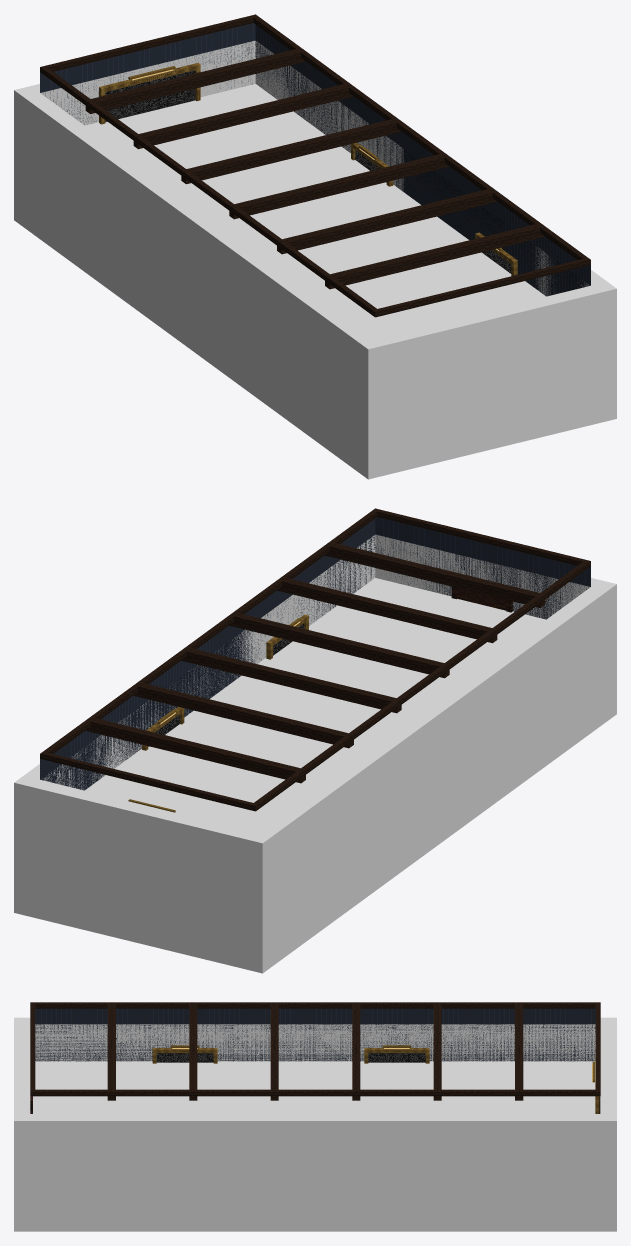
Rendered from unreal_wing.glb.
The picture shows the model from 3 angles, top to bottom: view 1: azimuth 30°, elevation 25°; view 2: azimuth 150°, elevation 25°; view 3: azimuth 270°, elevation 25°; orthographic projection. The views are drawn at different scales.
Parts seen in each view (by area): view 1: COL_Wall_W, COL_Wall_S, TRG_CAM_2, Room_Shell, TRG_CAM_1, COL_Wall_N, COL_Wall_E, Molding_W, Beam_6, Beam_2, Beam_1, Beam_3 (+7 smaller); view 2: COL_Wall_W, COL_Wall_N, Room_Shell, TRG_CAM_2, TRG_CAM_1, COL_Wall_S, COL_Wall_E, Molding_W, Beam_6, Beam_5, Beam_3, Beam_1 (+5 smaller); view 3: COL_Wall_E, Room_Shell, COL_Wall_W, TRG_CAM_2, TRG_CAM_1, Molding_E, COL_Wall_N, COL_Wall_S, Molding_W, Beam_5, Beam_6, Beam_1 (+9 smaller).
Part boxes in pixels (x1=…): COL_Wall_W: x1=23, y1=93, x2=374, y2=472; COL_Wall_S: x1=358, y1=281, x2=616, y2=479; TRG_CAM_2: x1=85, y1=84, x2=441, y2=261; Room_Shell: x1=40, y1=23, x2=590, y2=296; TRG_CAM_1: x1=263, y1=220, x2=545, y2=338; COL_Wall_N: x1=14, y1=40, x2=255, y2=226; COL_Wall_E: x1=255, y1=41, x2=606, y2=296; Molding_W: x1=43, y1=68, x2=376, y2=314; Beam_6: x1=85, y1=48, x2=305, y2=113; Beam_2: x1=277, y1=188, x2=497, y2=254; Beam_1: x1=325, y1=223, x2=545, y2=289; Beam_3: x1=229, y1=153, x2=449, y2=219; COL_Wall_W: x1=256, y1=587, x2=607, y2=966; COL_Wall_N: x1=14, y1=775, x2=272, y2=973; Room_Shell: x1=40, y1=517, x2=590, y2=790; TRG_CAM_2: x1=85, y1=686, x2=397, y2=832; TRG_CAM_1: x1=227, y1=578, x2=545, y2=727; COL_Wall_S: x1=375, y1=534, x2=616, y2=720; COL_Wall_E: x1=24, y1=535, x2=375, y2=789; Molding_W: x1=254, y1=562, x2=587, y2=808; Beam_6: x1=85, y1=717, x2=305, y2=783; Beam_5: x1=133, y1=682, x2=353, y2=748; Beam_3: x1=229, y1=612, x2=449, y2=678; Beam_1: x1=325, y1=542, x2=545, y2=607; COL_Wall_E: x1=30, y1=1114, x2=600, y2=1231; Room_Shell: x1=35, y1=1008, x2=595, y2=1061; COL_Wall_W: x1=35, y1=1024, x2=595, y2=1061; TRG_CAM_2: x1=283, y1=1061, x2=600, y2=1113; TRG_CAM_1: x1=33, y1=1061, x2=299, y2=1113; Molding_E: x1=35, y1=1089, x2=595, y2=1096; COL_Wall_N: x1=600, y1=1017, x2=616, y2=1231; COL_Wall_S: x1=14, y1=1017, x2=30, y2=1231; Molding_W: x1=35, y1=1002, x2=595, y2=1008; Beam_5: x1=433, y1=1002, x2=441, y2=1100; Beam_6: x1=515, y1=1002, x2=523, y2=1100; Beam_1: x1=107, y1=1002, x2=115, y2=1100.
Size of the model in its own units: 6 by 3.6 by 14.8.
15 materials, 15 textured.
